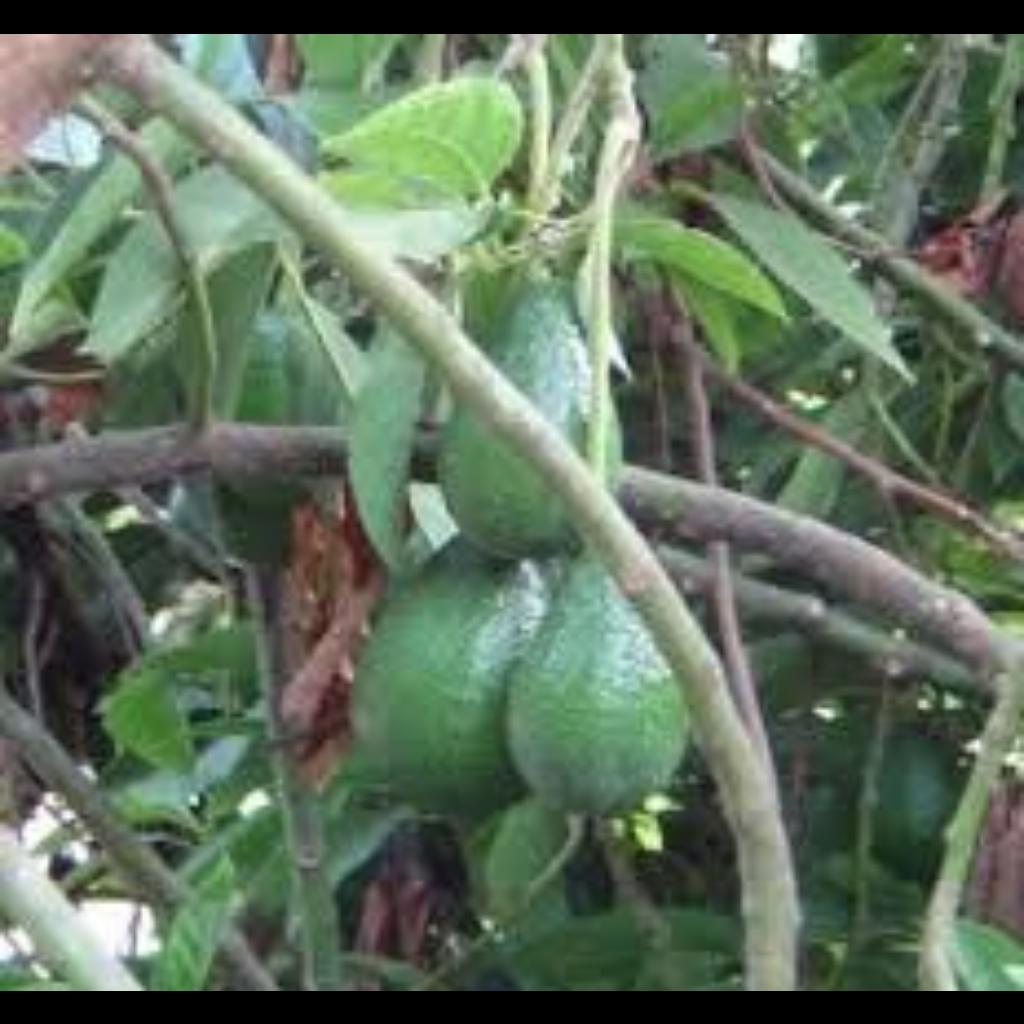cercospora: (534, 561, 702, 799)
